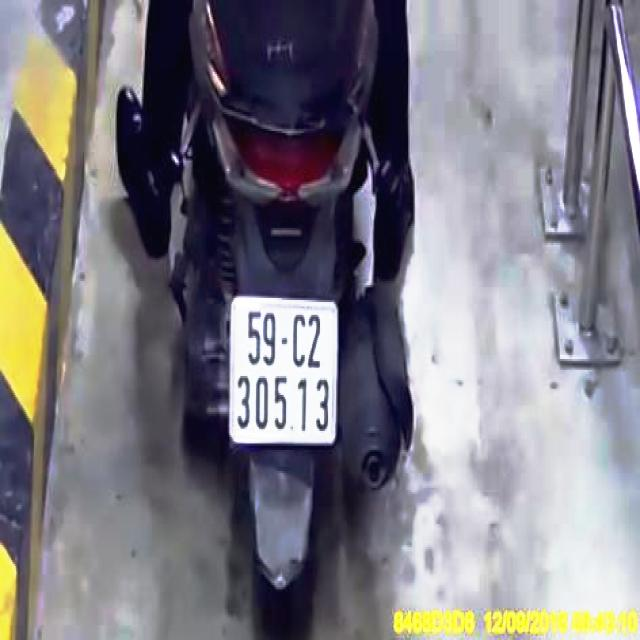license_plate: (231, 302, 336, 443)
